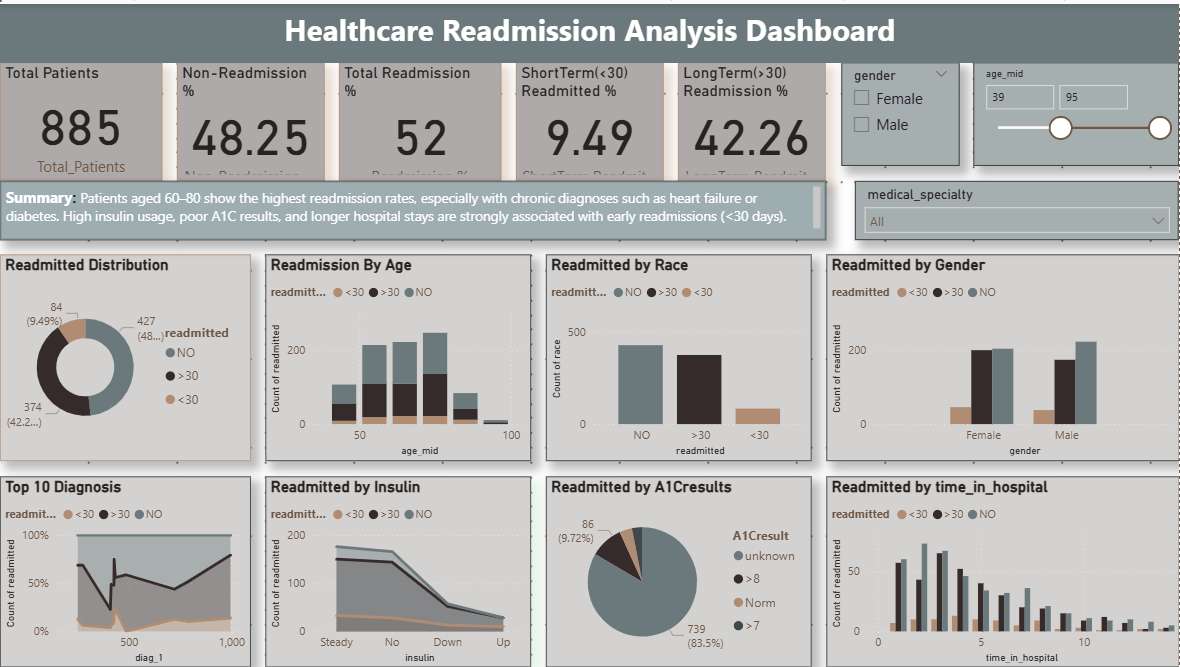

The dashboard page shown, as its layout file describes it:
{"tool":"powerbi","page":{"name":"Page 1","canvas":[1280,720],"ordinal":0},"visuals":[{"type":"card","title":"Non-Readmission %","fields":{"Values":["deep_cleaned_patient_data.Readmission_Rate"]},"box":[192,64,160,128],"z":0},{"type":"card","title":"Total Patients","fields":{"Values":["deep_cleaned_patient_data.Total_Patients"]},"box":[0,64,176,128],"z":1000},{"type":"card","title":"Total Readmission %","fields":{"Values":["deep_cleaned_patient_data.Readmission %"]},"box":[368,64,176,128],"z":2000},{"type":"card","title":"ShortTerm(<30) Readmitted %","fields":{"Values":["deep_cleaned_patient_data.ShortTerm Readmitted %"]},"box":[560,64,160,128],"z":3000},{"type":"card","title":"LongTerm(>30) Readmission %","fields":{"Values":["deep_cleaned_patient_data.LongTerm Readmitted %"]},"box":[736,64,160,128],"z":4000},{"type":"donutChart","title":"Readmitted Distribution","fields":{"Y":["CountNonNull(deep_cleaned_patient_data.readmitted)"],"Category":["deep_cleaned_patient_data.readmitted"]},"box":[0,272,272,224],"z":5000},{"type":"columnChart","title":"Readmission by an  Age","fields":{"Category":["deep_cleaned_patient_data.age_mid"],"Y":["CountNonNull(deep_cleaned_patient_data.readmitted)"],"Series":["deep_cleaned_patient_data.readmitted"]},"box":[288,272,288,224],"z":6000},{"type":"columnChart","title":"Readmitted by Race","fields":{"Category":["deep_cleaned_patient_data.readmitted"],"Y":["CountNonNull(deep_cleaned_patient_data.race)"],"Series":["deep_cleaned_patient_data.readmitted"]},"box":[592,272,288,224],"z":7000},{"type":"clusteredColumnChart","title":"Readmitted by Gender","fields":{"Category":["deep_cleaned_patient_data.gender"],"Y":["CountNonNull(deep_cleaned_patient_data.readmitted)"],"Series":["deep_cleaned_patient_data.readmitted"]},"box":[896,272,384,224],"z":8000},{"type":"hundredPercentStackedAreaChart","title":"Top 10 Diagnosis","fields":{"Category":["deep_cleaned_patient_data.diag_1"],"Y":["CountNonNull(deep_cleaned_patient_data.readmitted)"],"Series":["deep_cleaned_patient_data.readmitted"]},"box":[0,512,272,208],"z":9000},{"type":"areaChart","title":"Readmitted by Insulin","fields":{"Category":["deep_cleaned_patient_data.insulin"],"Y":["CountNonNull(deep_cleaned_patient_data.readmitted)"],"Series":["deep_cleaned_patient_data.readmitted"]},"box":[288,512,288,208],"z":10000},{"type":"pieChart","title":"Readmitted by A1Cresults","fields":{"Category":["deep_cleaned_patient_data.A1Cresult"],"Y":["CountNonNull(deep_cleaned_patient_data.readmitted)"]},"box":[592,512,288,208],"z":11000},{"type":"clusteredColumnChart","title":"Readmitted by time_in_hospital","fields":{"Category":["deep_cleaned_patient_data.time_in_hospital"],"Y":["CountNonNull(deep_cleaned_patient_data.readmitted)"],"Series":["deep_cleaned_patient_data.readmitted"]},"box":[896,512,384,208],"z":12000},{"type":"slicer","fields":{"Values":["deep_cleaned_patient_data.gender"]},"box":[912,64,128,112],"z":13000},{"type":"slicer","fields":{"Values":["deep_cleaned_patient_data.age_mid"]},"box":[1054.1,71.2,225.1,111.7],"z":14000},{"type":"slicer","fields":{"Values":["deep_cleaned_patient_data.medical_specialty"]},"box":[928,192,352,64],"z":15000},{"type":"textbox","box":[0,0,1280,64],"z":16000},{"type":"textbox","box":[0,192,896,64],"z":17000}]}

Visuals, with their boxes in screenshot pixels (x1, y1, x2, y2), scaled from the page's 1280x720 canvas onto the 1180x667 screenshot:
"Non-Readmission %" card: {"x1": 177, "y1": 59, "x2": 324, "y2": 178}
"Total Patients" card: {"x1": 0, "y1": 59, "x2": 162, "y2": 178}
"Total Readmission %" card: {"x1": 339, "y1": 59, "x2": 502, "y2": 178}
"ShortTerm(<30) Readmitted %" card: {"x1": 516, "y1": 59, "x2": 664, "y2": 178}
"LongTerm(>30) Readmission %" card: {"x1": 678, "y1": 59, "x2": 826, "y2": 178}
"Readmitted Distribution" donutChart: {"x1": 0, "y1": 252, "x2": 251, "y2": 459}
"Readmission by an  Age" columnChart: {"x1": 266, "y1": 252, "x2": 531, "y2": 459}
"Readmitted by Race" columnChart: {"x1": 546, "y1": 252, "x2": 811, "y2": 459}
"Readmitted by Gender" clusteredColumnChart: {"x1": 826, "y1": 252, "x2": 1179, "y2": 459}
"Top 10 Diagnosis" hundredPercentStackedAreaChart: {"x1": 0, "y1": 474, "x2": 251, "y2": 666}
"Readmitted by Insulin" areaChart: {"x1": 266, "y1": 474, "x2": 531, "y2": 666}
"Readmitted by A1Cresults" pieChart: {"x1": 546, "y1": 474, "x2": 811, "y2": 666}
"Readmitted by time_in_hospital" clusteredColumnChart: {"x1": 826, "y1": 474, "x2": 1179, "y2": 666}
slicer - deep_cleaned_patient_data.gender: {"x1": 841, "y1": 59, "x2": 959, "y2": 163}
slicer - deep_cleaned_patient_data.age_mid: {"x1": 972, "y1": 66, "x2": 1179, "y2": 169}
slicer - deep_cleaned_patient_data.medical_specialty: {"x1": 856, "y1": 178, "x2": 1179, "y2": 237}
textbox: {"x1": 0, "y1": 0, "x2": 1179, "y2": 59}
textbox: {"x1": 0, "y1": 178, "x2": 826, "y2": 237}
